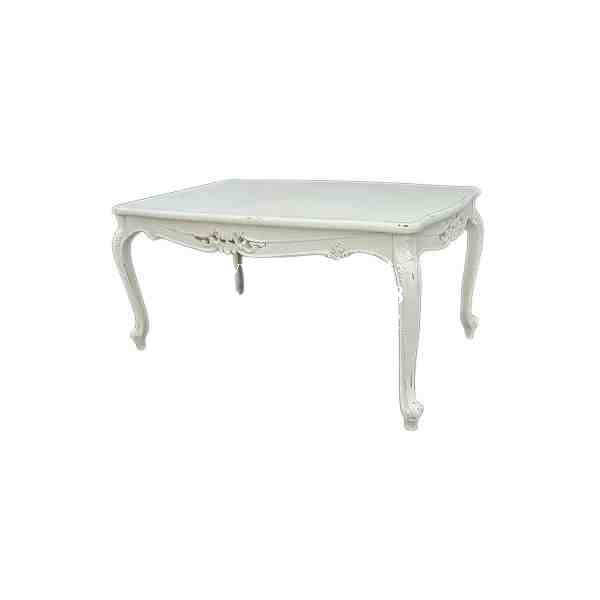Carving Table: (102, 158, 496, 443)
